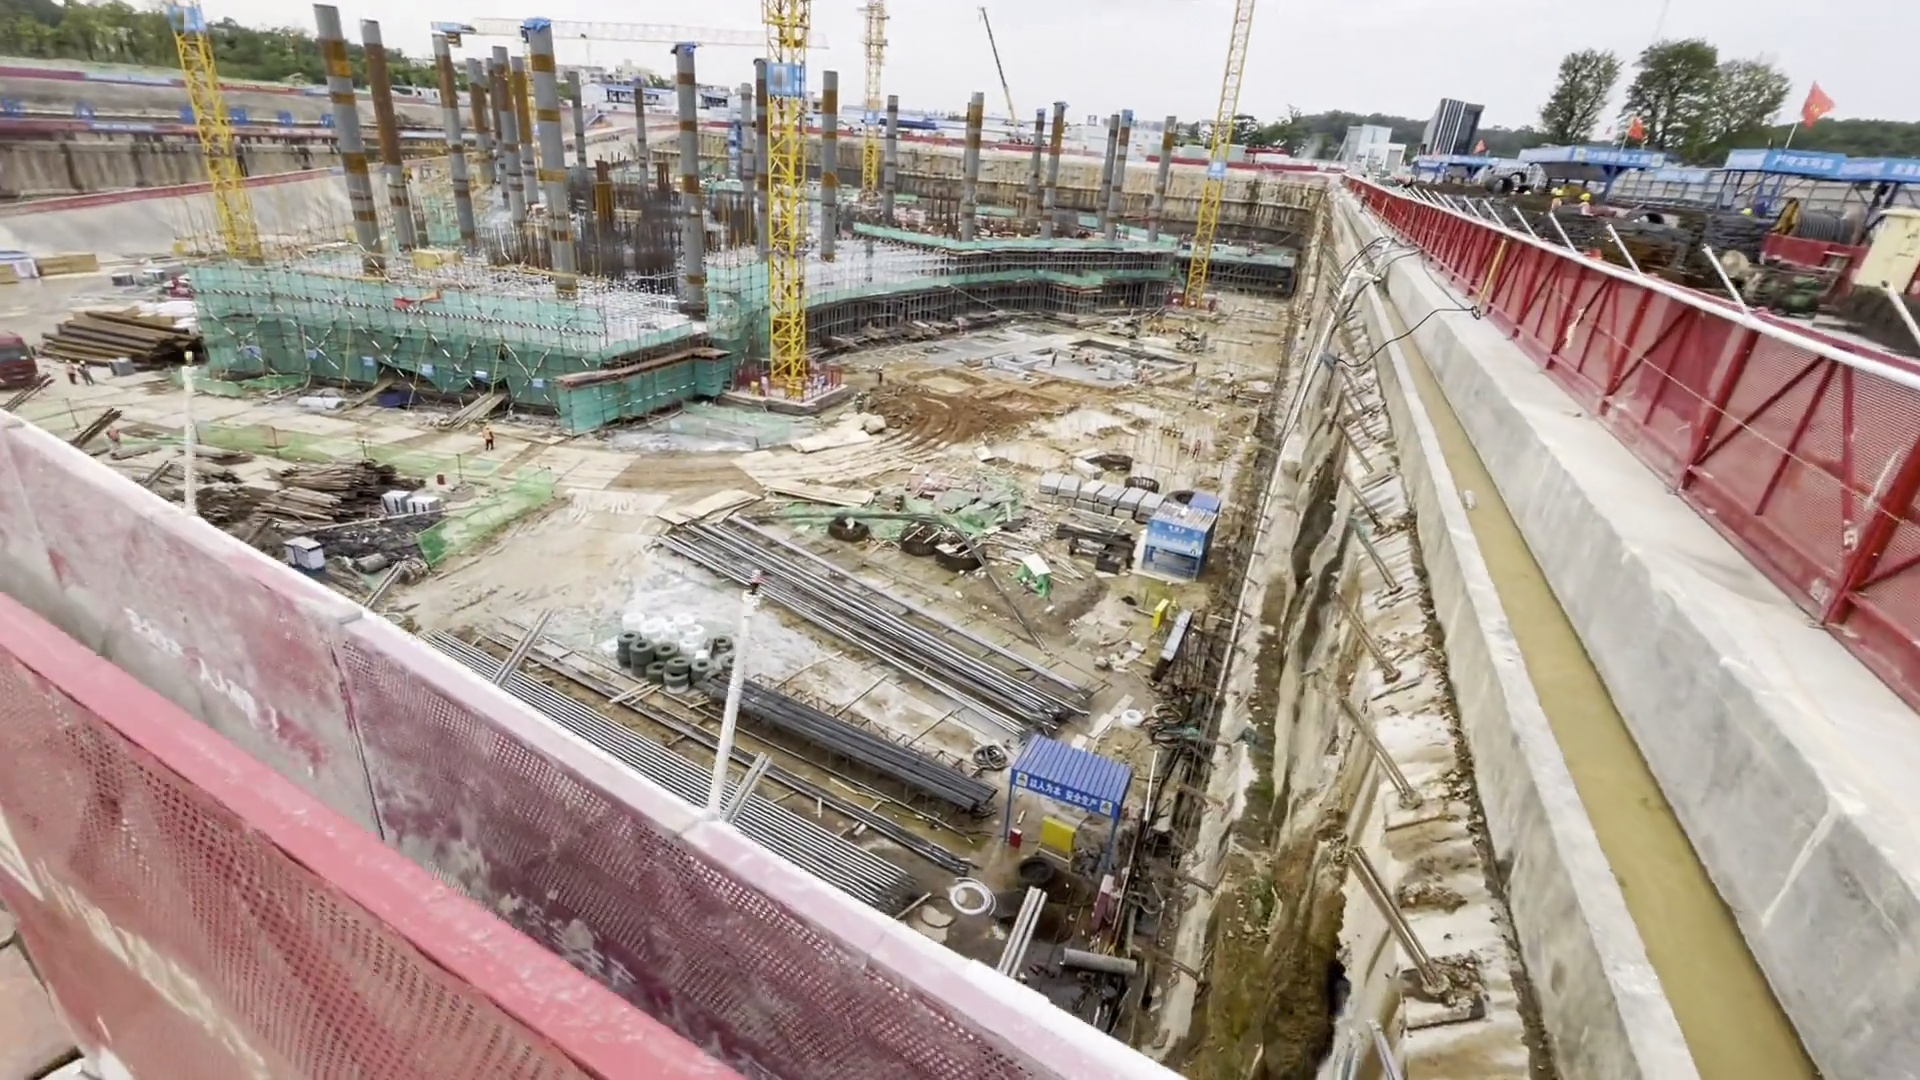brick: (1043, 479, 1169, 541), (381, 492, 439, 525)
ebox: (782, 384, 809, 407)
fence: (30, 472, 683, 997), (1491, 250, 1920, 569)
helmet: (1554, 188, 1565, 196), (1582, 192, 1589, 201), (79, 359, 87, 364), (484, 425, 491, 428)
hopper: (378, 391, 419, 409)
person: (59, 356, 77, 390), (479, 423, 497, 455), (76, 357, 94, 386), (1578, 189, 1595, 215), (1551, 186, 1568, 208)
rebar: (730, 692, 987, 801)
slogan: (1022, 779, 1115, 813), (1767, 152, 1839, 185)
vest: (1579, 201, 1592, 215), (483, 431, 494, 442), (64, 363, 75, 374)
wood: (287, 452, 377, 524)
